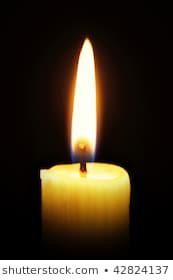fire: (67, 33, 99, 164)
